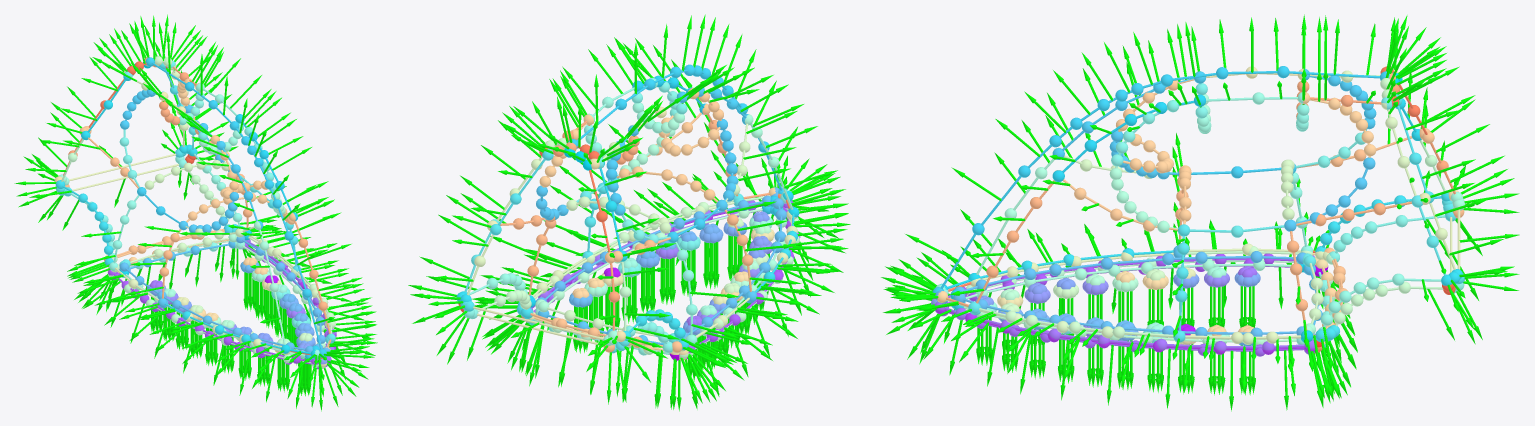
Rendered from onshape_iron.gltf.
3 views of the same model, side by side, from view 1: azimuth 30°, elevation 25°; view 2: azimuth 150°, elevation 25°; view 3: azimuth 270°, elevation 25° (orthographic). The views are drawn at different scales.
Bounding box in the file's own units: 0.5351 × 0.6187 × 1.03.
